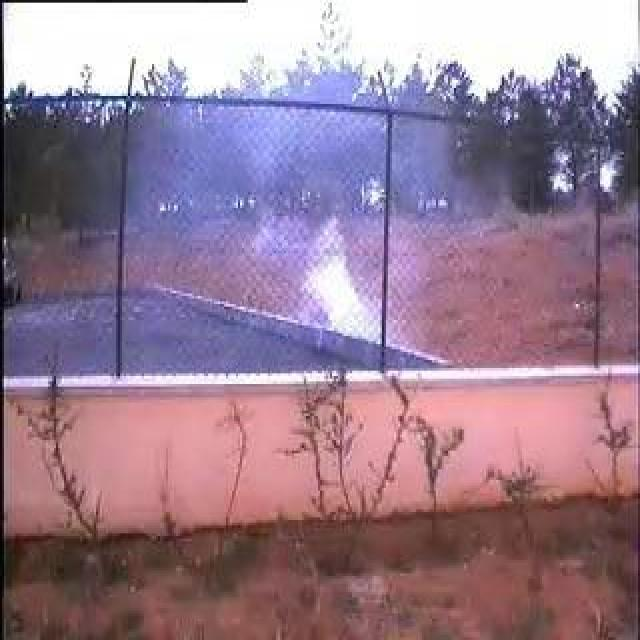Smoke: (222, 122, 406, 346)
